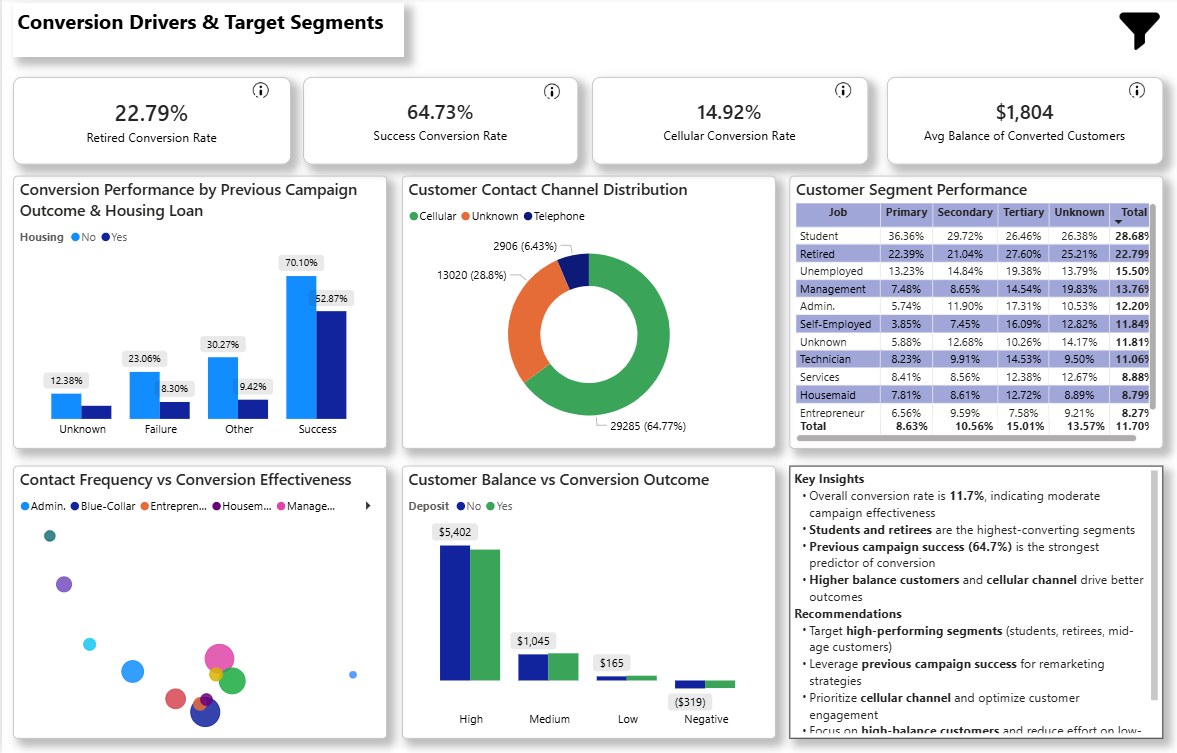

The dashboard page shown, as its layout file describes it:
{"tool":"powerbi","page":{"name":"Conversion Drivers & Target Segments","canvas":[1400,900],"ordinal":1},"visuals":[{"type":"cardVisual","fields":{"Data":["Bank Target Marketing.Retired Conv Rate"]},"box":[13.4,95.2,330.4,104.2],"z":0},{"type":"image","box":[297.6,98.2,20.9,25.1],"z":0,"group":"g1"},{"type":"cardVisual","fields":{"Data":["Bank Target Marketing.Prev Success Conv"]},"box":[358.6,95.2,327.4,104.2],"z":1000},{"type":"image","box":[645,99.2,20.9,25.1],"z":1000,"group":"g1"},{"type":"cardVisual","fields":{"Data":["Bank Target Marketing.Cellular Conv Rate"]},"box":[702.4,95.2,328.9,104.2],"z":2000},{"type":"image","box":[990.4,98.2,20.9,25.1],"z":2000,"group":"g1"},{"type":"cardVisual","fields":{"Data":["Bank Target Marketing.Avg Balance Subscribed"]},"box":[1053.6,95.2,328.9,104.2],"z":3000},{"type":"image","box":[1341,98.2,20.9,25.1],"z":3000,"group":"g1"},{"type":"donutChart","title":"Customer Contact Channel Distribution","fields":{"Y":["Bank Target Marketing.Total Customers"],"Category":["Bank Target Marketing.Contact"]},"box":[476.2,212.8,445,325],"z":4000},{"type":"clusteredColumnChart","title":"Conversion Performance by Previous Campaign Outcome & Housing Loan","fields":{"Y":["Bank Target Marketing.Conversion Rate %"],"Category":["Bank Target Marketing.Poutcome"],"Series":["Bank Target Marketing.Housing"]},"box":[13.4,212.8,445,325],"z":5000},{"type":"pivotTable","title":"Customer Segment Performance","fields":{"Values":["Bank Target Marketing.Conversion Rate %"],"Rows":["Bank Target Marketing.Job"],"Columns":["Bank Target Marketing.Education"]},"box":[937.5,212.8,445,325],"z":6000},{"type":"clusteredColumnChart","title":"Customer Balance vs Conversion Outcome","fields":{"Category":["Bank Target Marketing.Balance Band"],"Series":["Bank Target Marketing.Deposit"],"Y":["Bank Target Marketing.Avg Balance"]},"box":[476.2,558,445,325],"z":7000},{"type":"scatterChart","title":"Contact Frequency vs Conversion Effectiveness","fields":{"X":["Bank Target Marketing.Avg Contacts"],"Y":["Bank Target Marketing.Conversion Rate %"],"Size":["Bank Target Marketing.Total Customers"],"Series":["Bank Target Marketing.Job"]},"box":[13.4,558,445,325],"z":8000},{"type":"textbox","box":[13.4,7.4,465.8,64],"z":10000},{"type":"image","title":"Sheet 2 Enable","box":[1325.9,7.4,56.5,64],"z":11000},{"type":"group","id":"g1","title":"Info icon","box":[297.6,98.2,1064,25.3],"z":13000},{"type":"textbox","box":[937.5,558,444.9,324.4],"z":14000}]}

Visuals, with their boxes in screenshot pixels (x1, y1, x2, y2), scaled from the page's 1400x900 canvas onto the 1177x753 screenshot:
cardVisual - Bank Target Marketing.Retired Conv Rate: [11,80,289,167]
image: [250,82,268,103]
cardVisual - Bank Target Marketing.Prev Success Conv: [301,80,577,167]
image: [542,83,560,104]
cardVisual - Bank Target Marketing.Cellular Conv Rate: [591,80,867,167]
image: [833,82,850,103]
cardVisual - Bank Target Marketing.Avg Balance Subscribed: [886,80,1162,167]
image: [1127,82,1145,103]
"Customer Contact Channel Distribution" donutChart: [400,178,774,450]
"Conversion Performance by Previous Campaign Outcome & Housing Loan" clusteredColumnChart: [11,178,385,450]
"Customer Segment Performance" pivotTable: [788,178,1162,450]
"Customer Balance vs Conversion Outcome" clusteredColumnChart: [400,467,774,739]
"Contact Frequency vs Conversion Effectiveness" scatterChart: [11,467,385,739]
textbox: [11,6,403,60]
"Sheet 2 Enable" image: [1115,6,1162,60]
"Info icon" group: [250,82,1145,103]
textbox: [788,467,1162,738]
